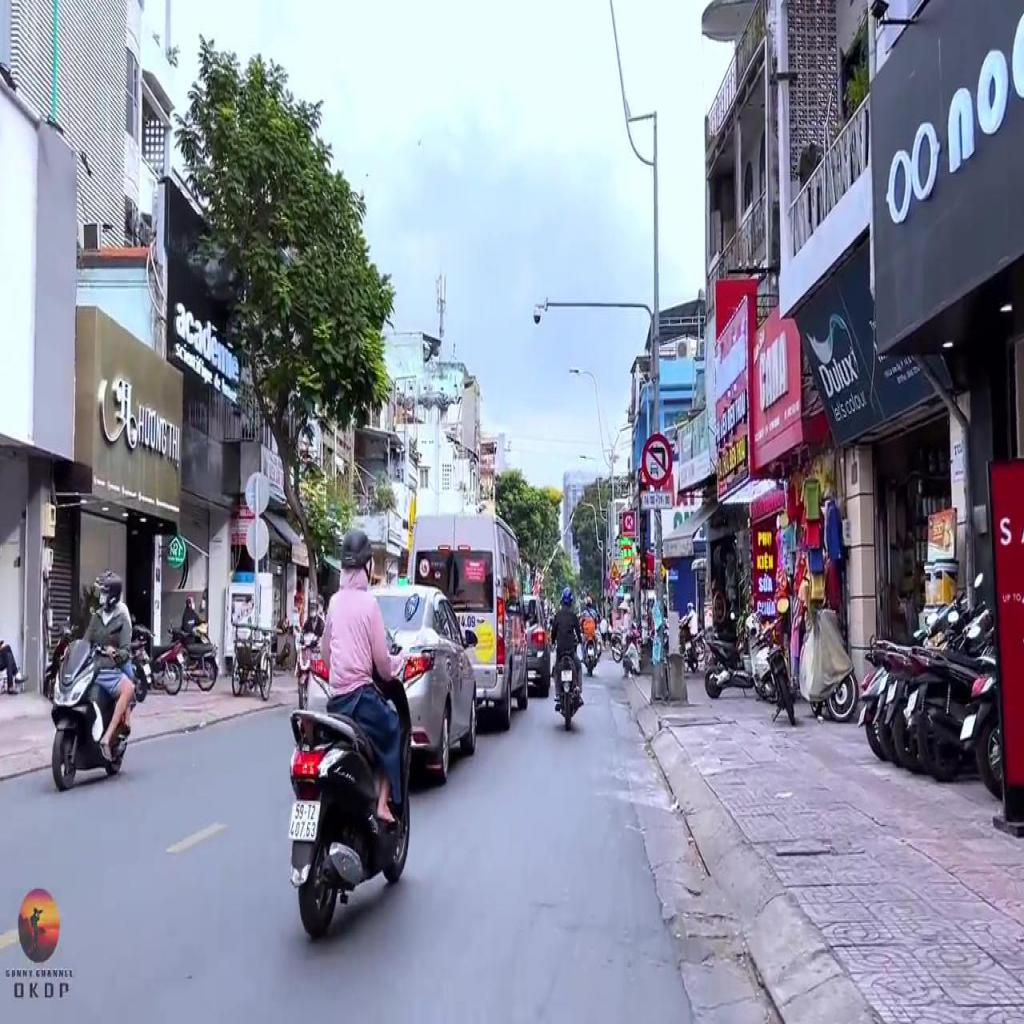cam_o_to_re_trai: (640, 428, 674, 489)
khac: (640, 488, 674, 512)
